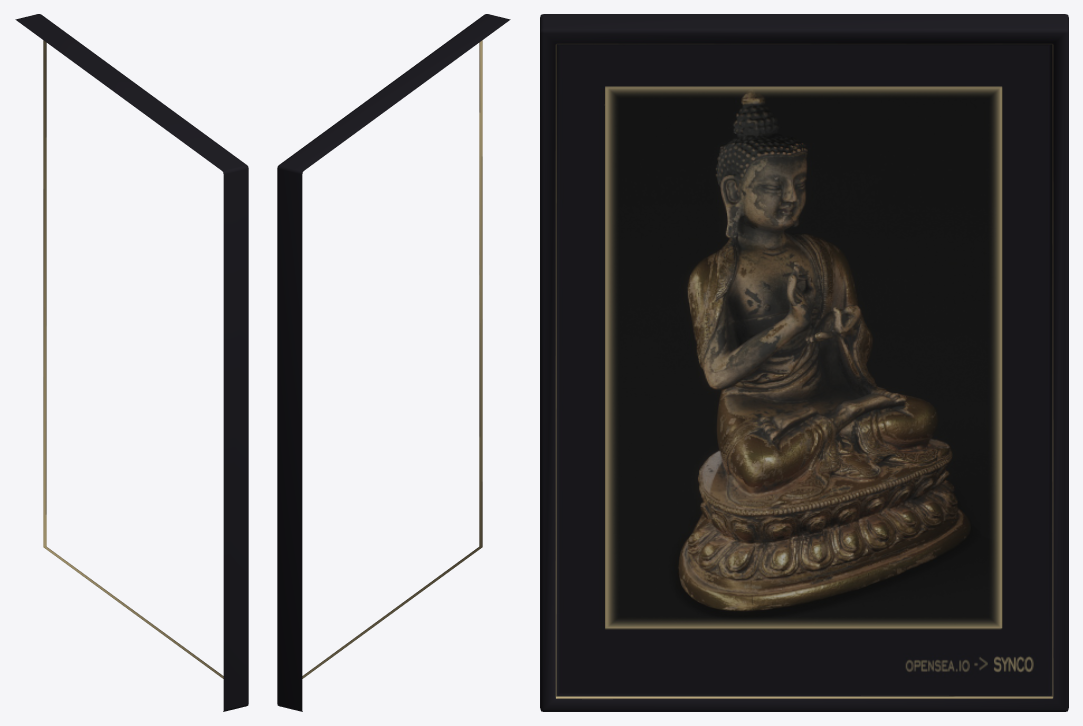
Rendered from andre.glb.
3 views of the same model, side by side, from view 1: azimuth 30°, elevation 25°; view 2: azimuth 150°, elevation 25°; view 3: azimuth 270°, elevation 25° (orthographic). The views are drawn at different scales.
Parts seen in each view (by area): view 1: Box002; view 2: Box002; view 3: Box002.
Boxes of the visible parts, left/top/right/bottom form: Box002: left=15, top=14, right=248, bottom=711; Box002: left=277, top=14, right=510, bottom=711; Box002: left=540, top=14, right=1068, bottom=711.
Size of the model in its own units: 0.0187 by 0.3738 by 0.2622.
1 material, 1 textured.
